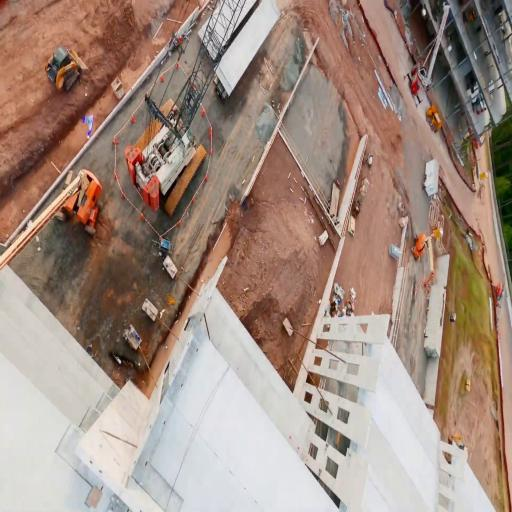uav: (79, 106, 98, 148)
